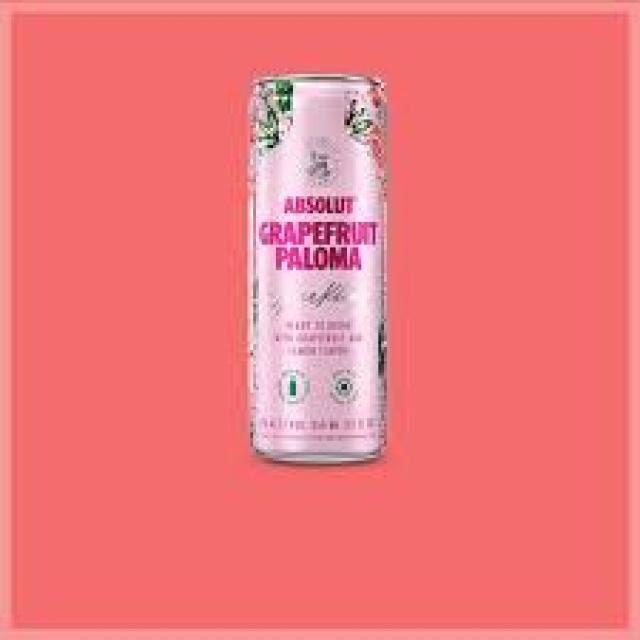Cans: (242, 65, 398, 475)
